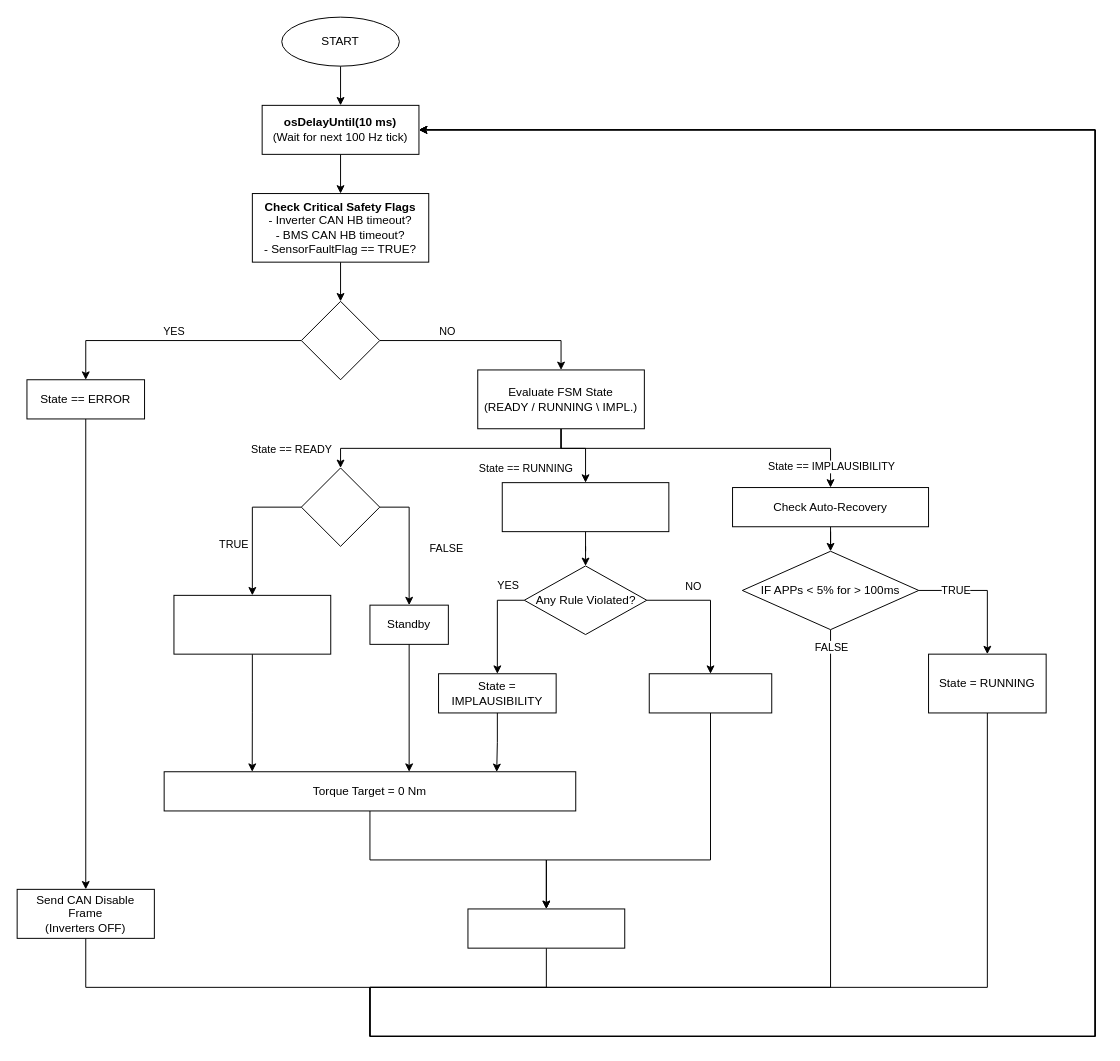
Some shapes in this 1120 by 1061 pixel diagram are drawn without their labels. Here are the shapes that lost their labels. From the top down, the box of each, then its label:
(300, 300, 380, 380): Fault?
(300, 467, 380, 546): R2D State
(501, 482, 669, 532): Check Safety Rules: - APPs diff. > 10% ? - APPs >25% & Brake?
(173, 594, 331, 654): Inverter Start-Up Procedure (State = RUNNING)
(648, 673, 772, 713): Compute TV & TC Target = T_calculated
(467, 908, 625, 948): Send CAN Torque Frame (Torque Target)
